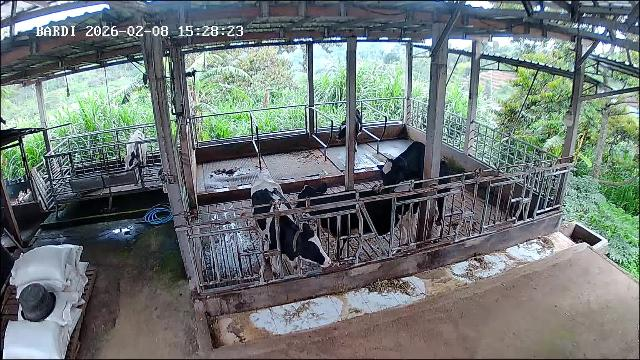mounting: (373, 140, 453, 236)
